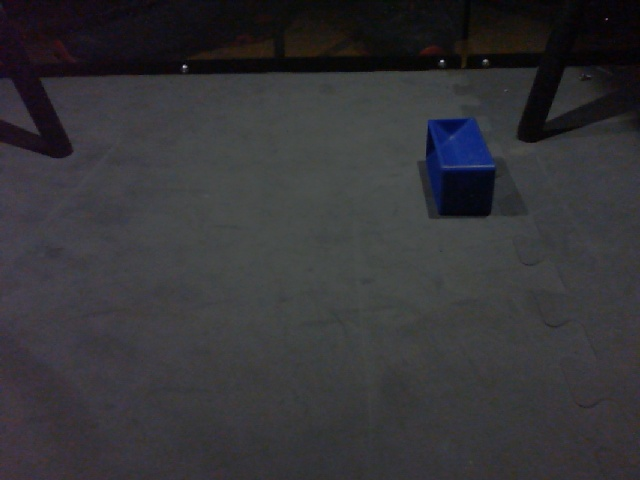BlueSample: (421, 115, 501, 217)
